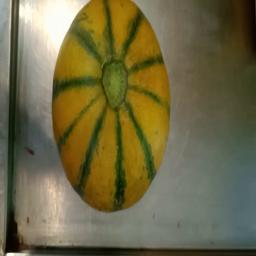Melon Semifresh: (51, 0, 180, 224)
